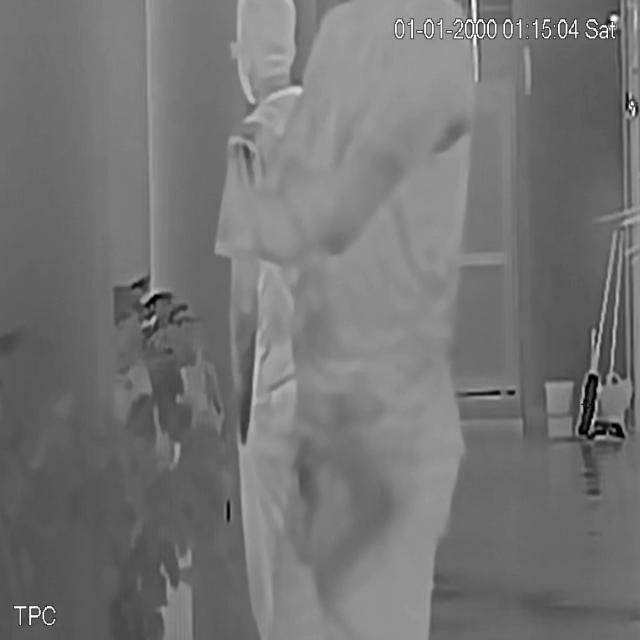Weapon: (308, 445, 399, 602)
